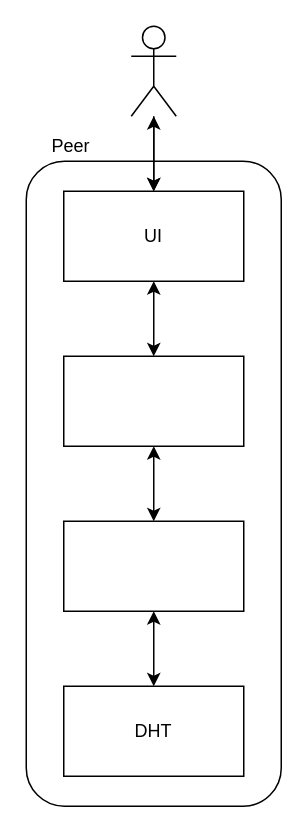
The diagram is 308 pixels wide and 833 high, and some of its shapes have lost their labels. The centre of each missing label's shape, as x and y in pixels:
P2P Vermittlung: (153,565)
Volltextsuche: (153,400)
